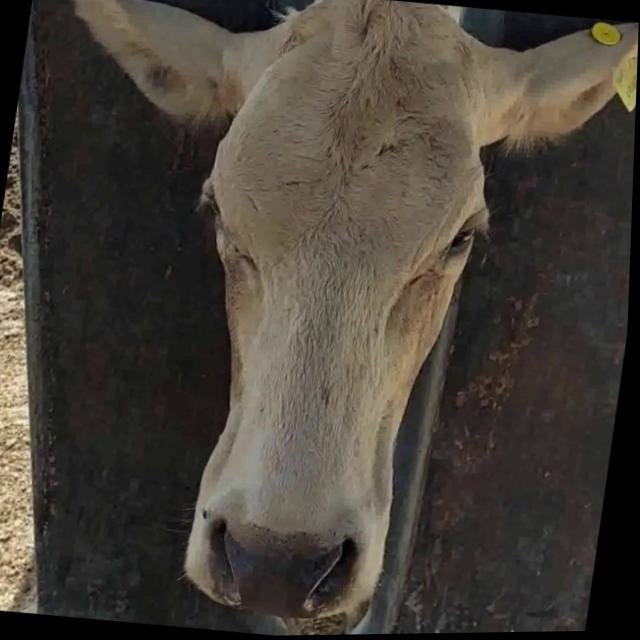cowFace: (144, 0, 517, 636)
